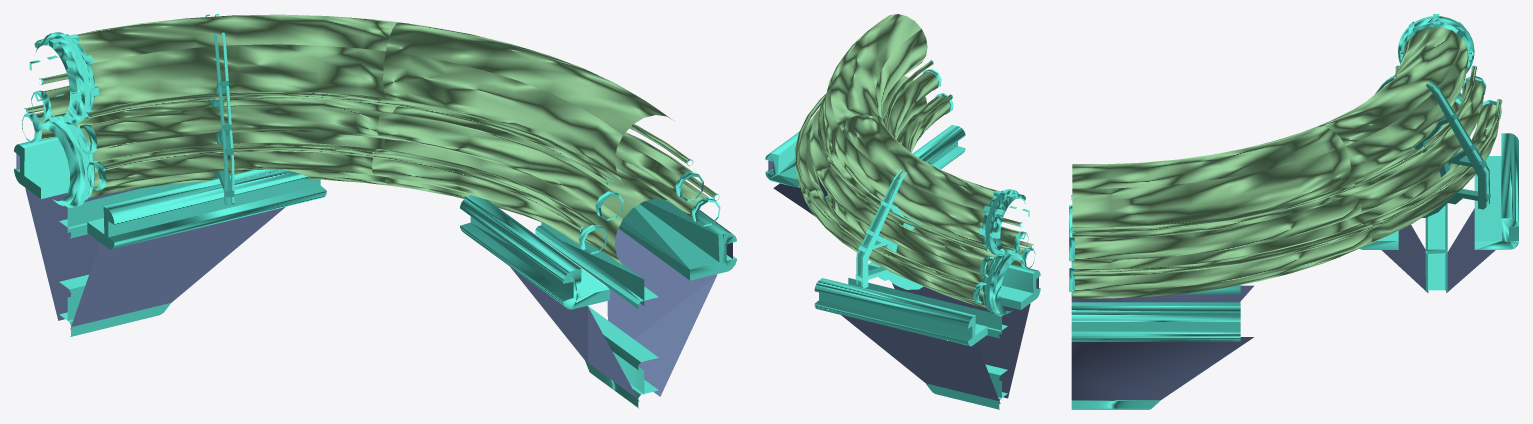
The model's file is pipeline_b_90d_50m_a.glb.
3 renders of one model, left to right at view 1: azimuth 30°, elevation 25°; view 2: azimuth 150°, elevation 25°; view 3: azimuth 270°, elevation 25°, orthographic. The views are drawn at different scales.
Size of the model in its own units: 69.88 by 42.87 by 71.63.
